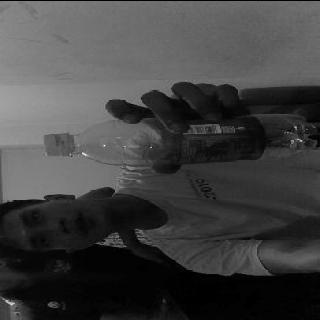plastic_bottles: (42, 111, 318, 165)
